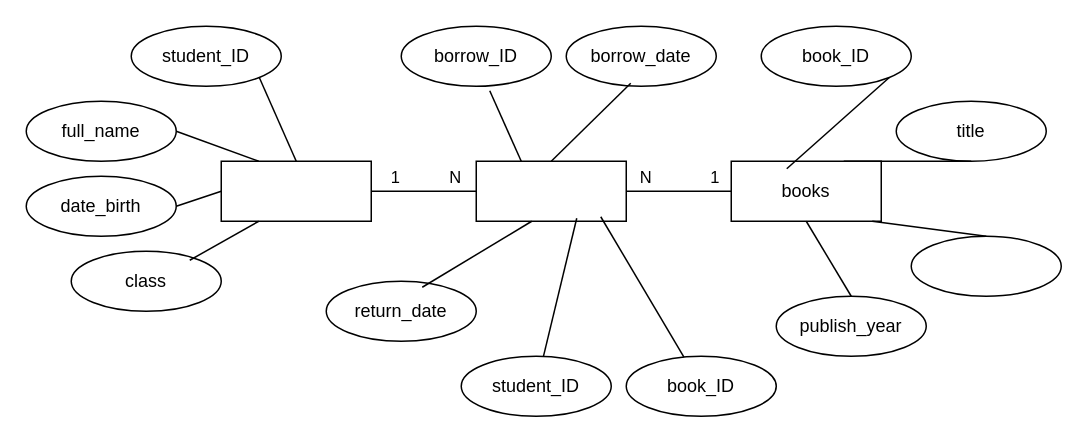
The diagram is 1088 pixels wide and 443 high, and some of its shapes have lost their labels. Each missing label, with the centre of its shape:
author: the point at 985,265
borrows: the point at 550,190
student: the point at 295,190
